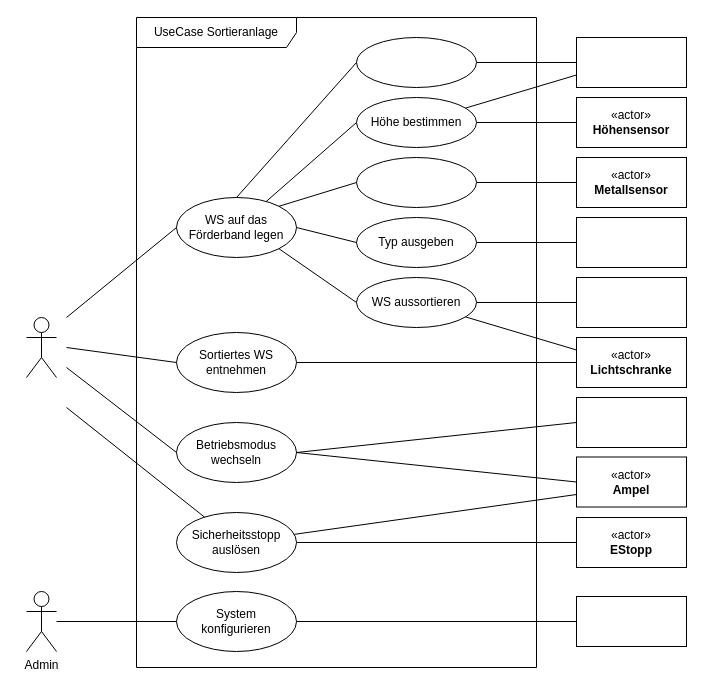
The diagram is 704 pixels wide and 690 high, and some of its shapes have lost their labels. Each missing label, with the centre of its shape:
Benutzer: the point at 41,347
Metall erkennen: the point at 416,182
Werkstück bewegen: the point at 416,62
«actor» Dateisystem: the point at 631,621
«actor» Förderband: the point at 631,62
«actor» Konsole: the point at 631,242
«actor» Taster: the point at 631,422
«actor» Weiche: the point at 631,302
